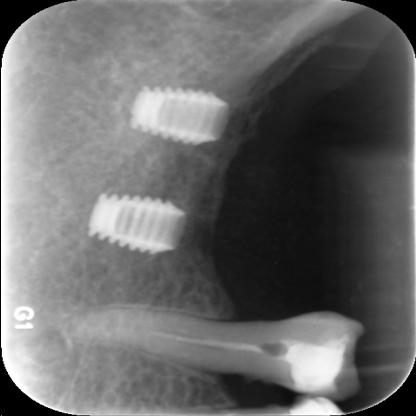Bicon: (82, 193, 194, 256), (127, 84, 232, 148)
